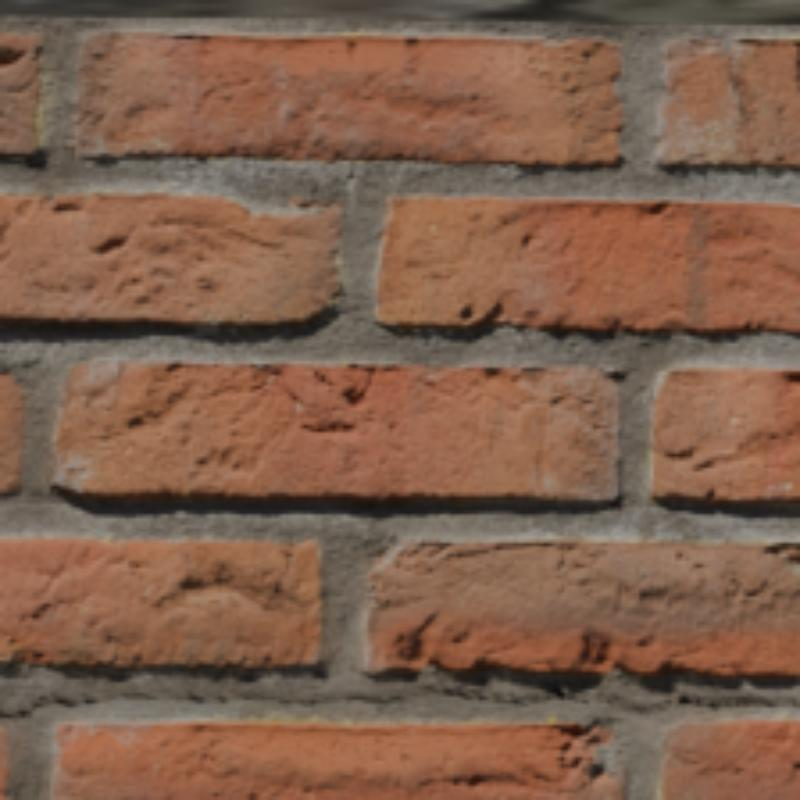pothole: (2, 685, 799, 721)
